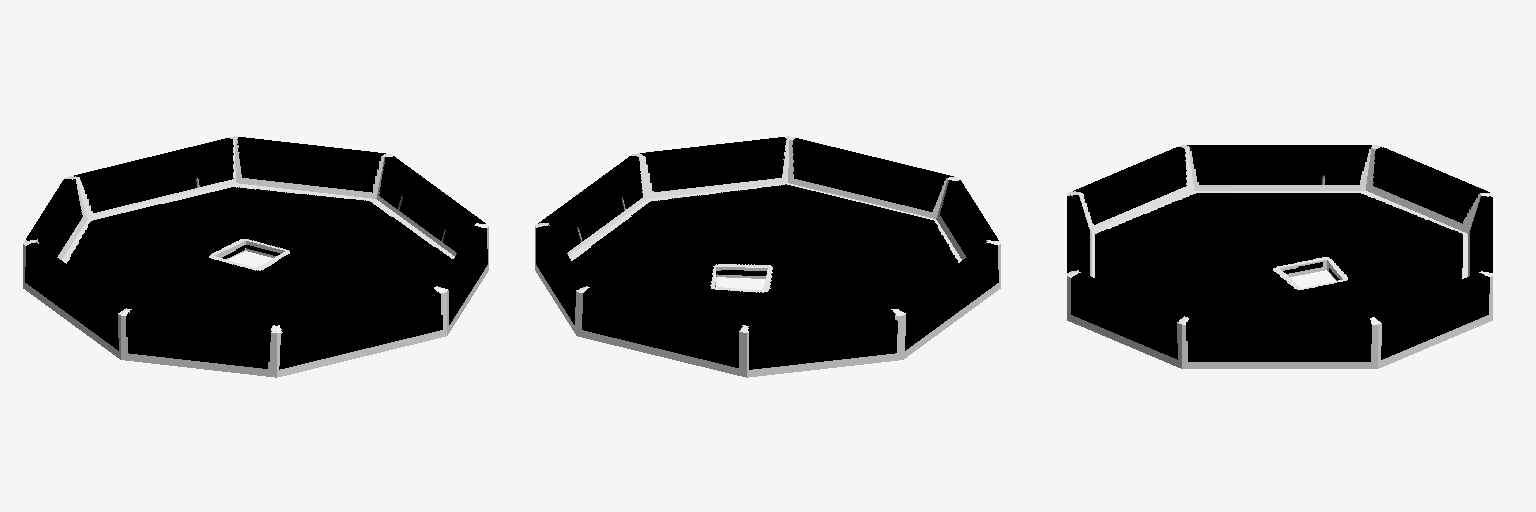
The picture shows the model from 3 angles: view 1: azimuth 30°, elevation 25°; view 2: azimuth 150°, elevation 25°; view 3: azimuth 270°, elevation 25°; orthographic projection.
Visible parts, largest first — view 1: floor.001; view 2: floor.001; view 3: floor.001.
Boxes of the visible parts, box(x1,y1,x2,y2) form: floor.001: box(23, 136, 488, 377); floor.001: box(535, 136, 1000, 377); floor.001: box(1067, 145, 1492, 368).
Bounding box in the file's own units: 32.5 × 3.92 × 32.5.
1 materials, 1 textured.